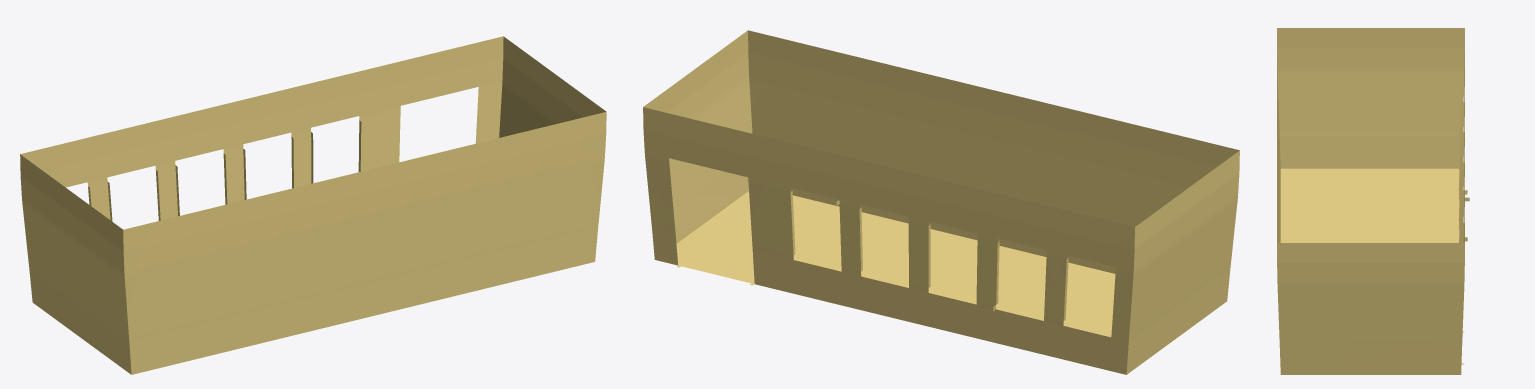
File: Bld_C_low_L3_C.fbx
The picture shows the model from 3 angles, left to right: view 1: azimuth 30°, elevation 25°; view 2: azimuth 150°, elevation 25°; view 3: azimuth 270°, elevation 25°; orthographic projection. The views are drawn at different scales.
Visible parts, largest first — view 1: Bld_C_low_L3_C_LOD0; view 2: Bld_C_low_L3_C_LOD0; view 3: Bld_C_low_L3_C_LOD0.
Part boxes in pixels (box(x1,y1,x2,y2)): Bld_C_low_L3_C_LOD0: box(20, 36, 606, 374); Bld_C_low_L3_C_LOD0: box(643, 30, 1239, 374); Bld_C_low_L3_C_LOD0: box(1277, 28, 1469, 374).
Size of what is drawn, in the model's own units: 1300 by 495 by 629.
1 material, 1 textured.
